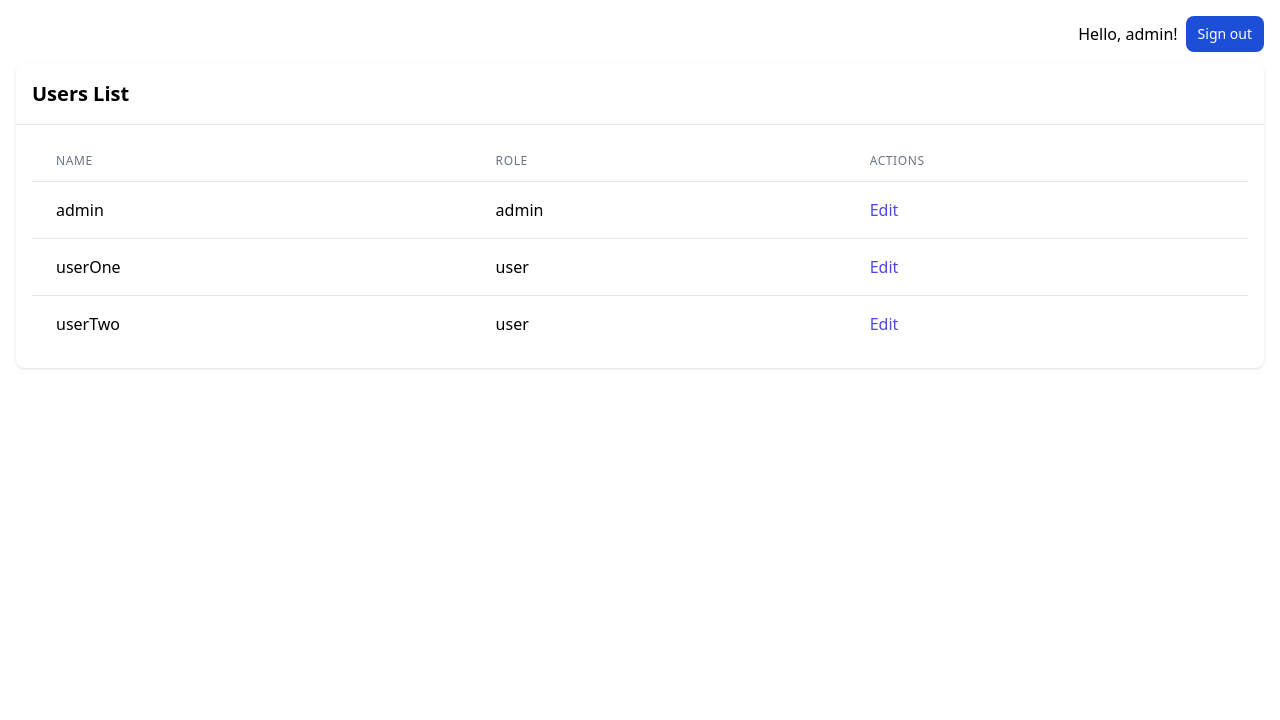
Scenario: Users List › should open form when clicking edit user
Click the 1st button with test id "edit-user".
click(885, 210)  # box x1=870 y1=198 x2=899 y2=222
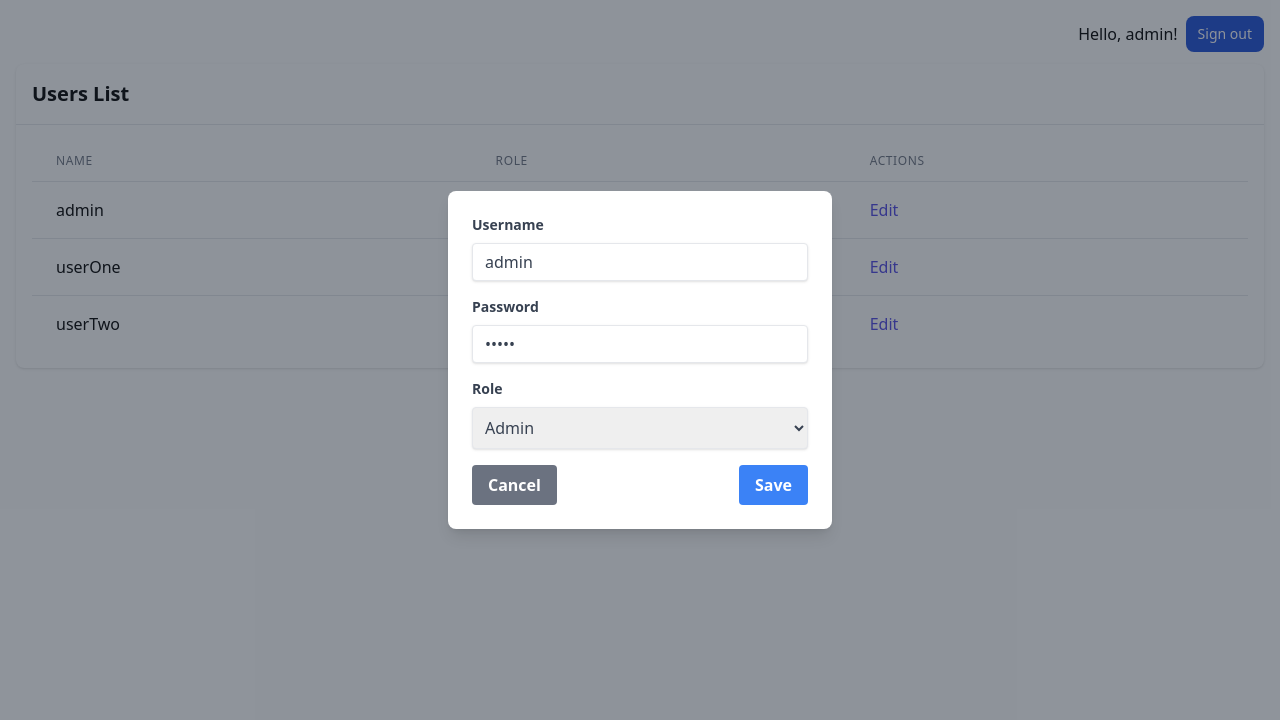
Result: the form is shown at x1=472 y1=215 x2=808 y2=505
